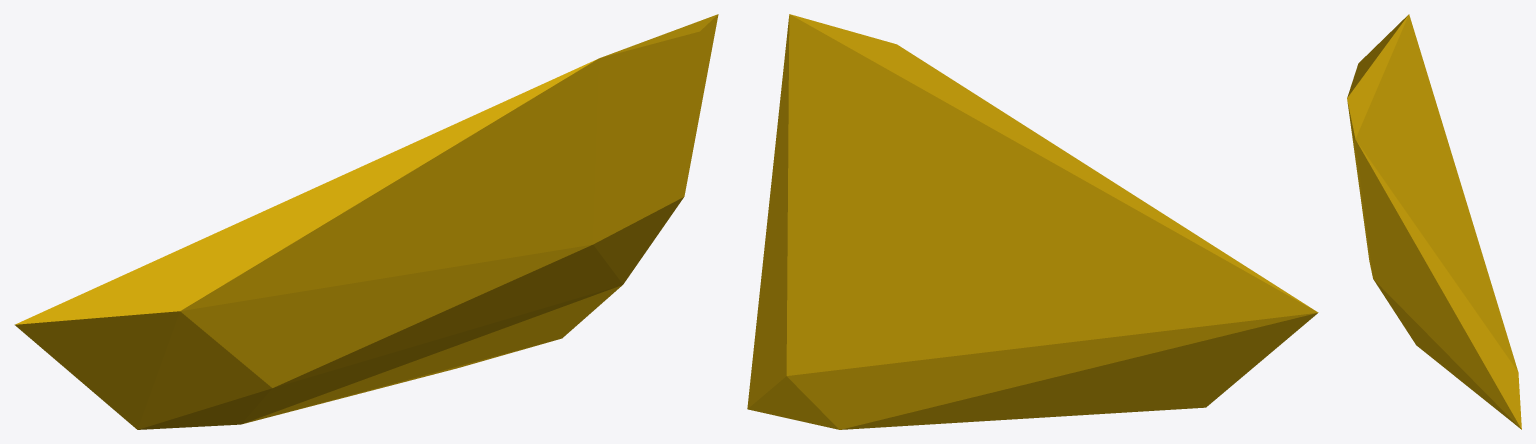
File: arm-L4_convex_piece_014.obj
The picture shows the model from 3 angles, left to right: view 1: azimuth 30°, elevation 25°; view 2: azimuth 150°, elevation 25°; view 3: azimuth 270°, elevation 25°; orthographic projection. The views are drawn at different scales.
Size of the model in its own units: 0.0697 by 0.0386 by 0.0196.
